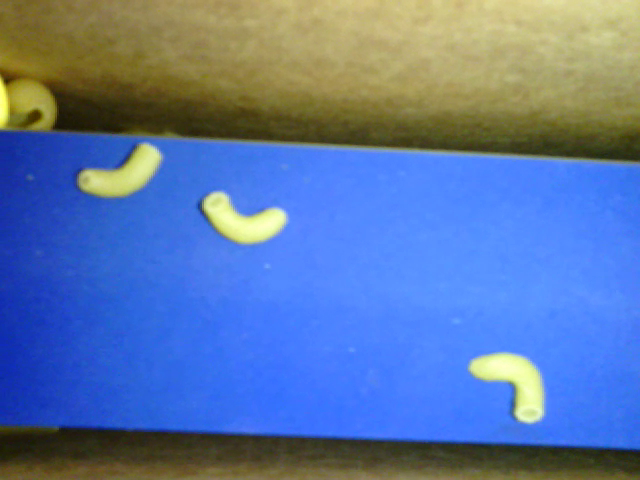elbow: (468, 349, 546, 425), (200, 190, 288, 247), (76, 142, 166, 197)
shell: (2, 78, 59, 136)
